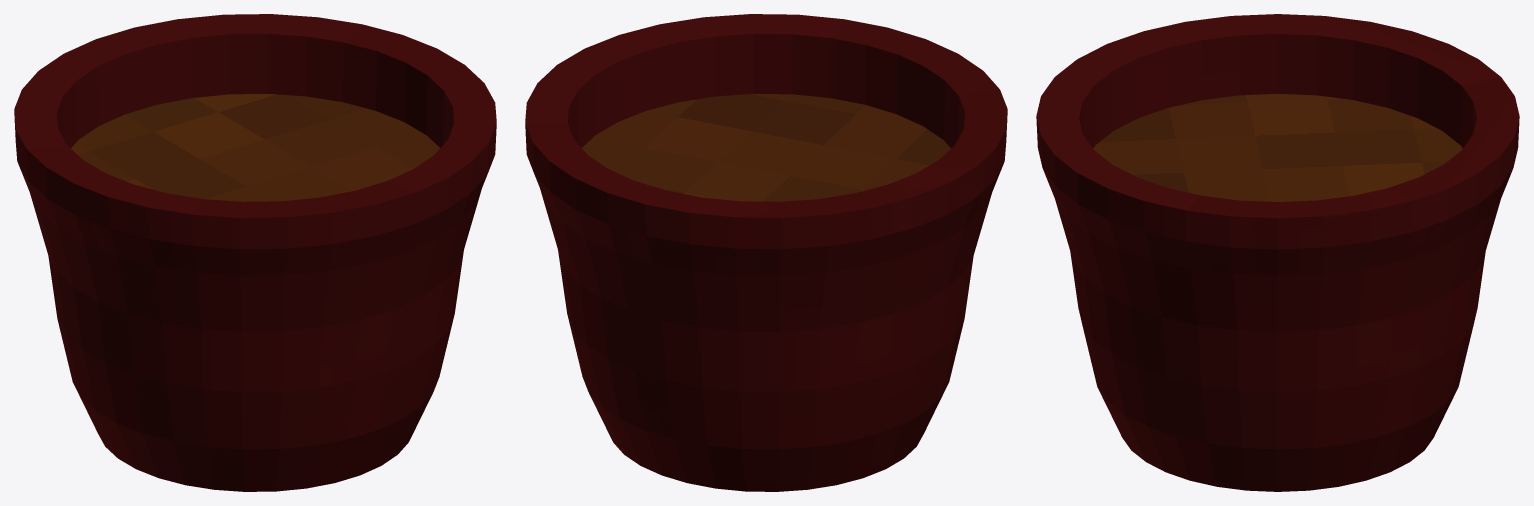
Rendered from simple_flowerpot.obj.
3 renders of one model, left to right at view 1: azimuth 30°, elevation 25°; view 2: azimuth 150°, elevation 25°; view 3: azimuth 270°, elevation 25°, orthographic.
Parts seen in each view (by area): view 1: Cylinder; view 2: Cylinder; view 3: Cylinder.
Part boxes in pixels (x1,y1,x2,y2): Cylinder: [14, 14, 496, 491]; Cylinder: [525, 14, 1007, 491]; Cylinder: [1036, 14, 1519, 491].
Bounding box in the file's own units: 2.74 × 1.93 × 2.74.
